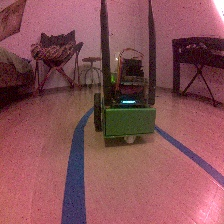rob: (92, 57, 157, 145)
